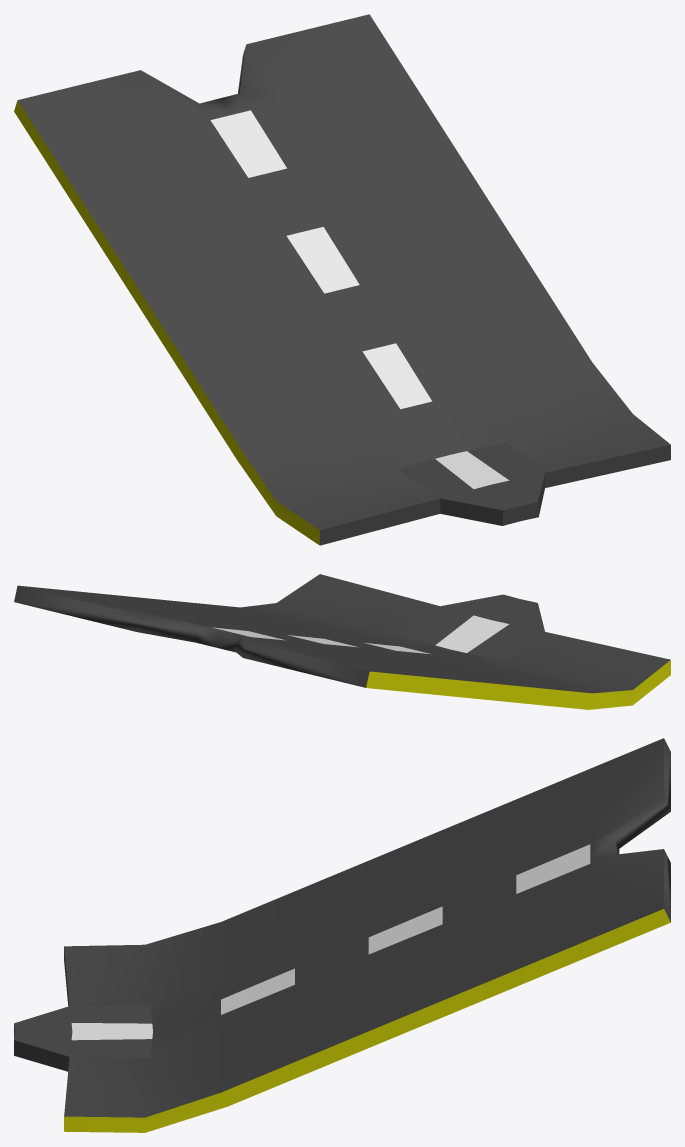
File: Downward slope 3 (End).fbx
The picture shows the model from 3 angles, top to bottom: view 1: azimuth 30°, elevation 25°; view 2: azimuth 150°, elevation 25°; view 3: azimuth 270°, elevation 25°; orthographic projection.
Visible parts, largest first — view 1: downward_slope_1; view 2: downward_slope_1; view 3: downward_slope_1.
Part boxes in pixels (box(x1,y1,x2,y2)): downward_slope_1: box(14, 14, 670, 545); downward_slope_1: box(14, 574, 670, 709); downward_slope_1: box(14, 738, 670, 1132).
Bounding box in the file's own units: 8.64 × 5.21 × 13.87.
